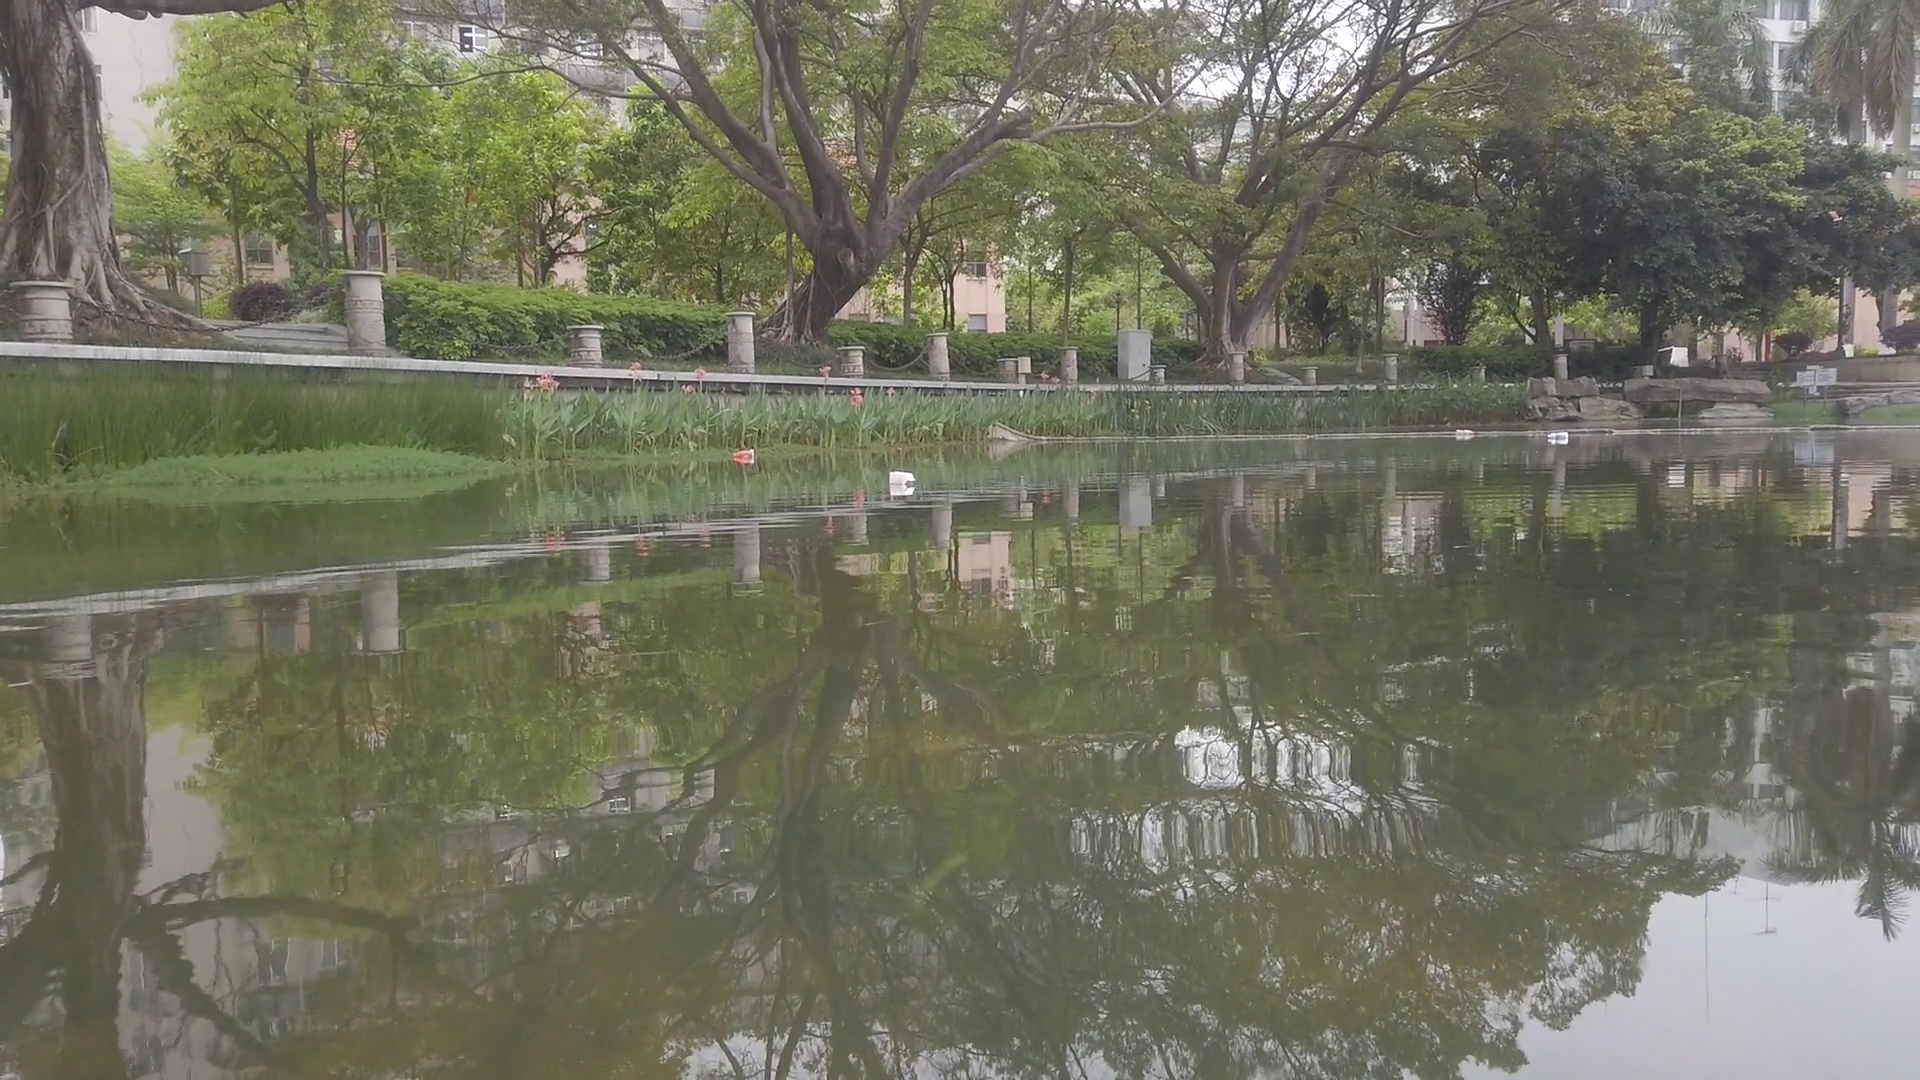bottle: (1548, 431, 1569, 443), (733, 451, 754, 462), (1456, 427, 1477, 436)
carton: (887, 471, 915, 487)
